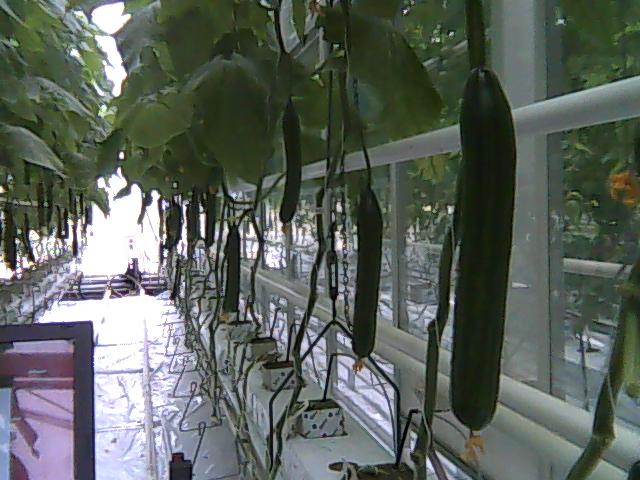concombre: (447, 65, 520, 463), (350, 182, 388, 370)
